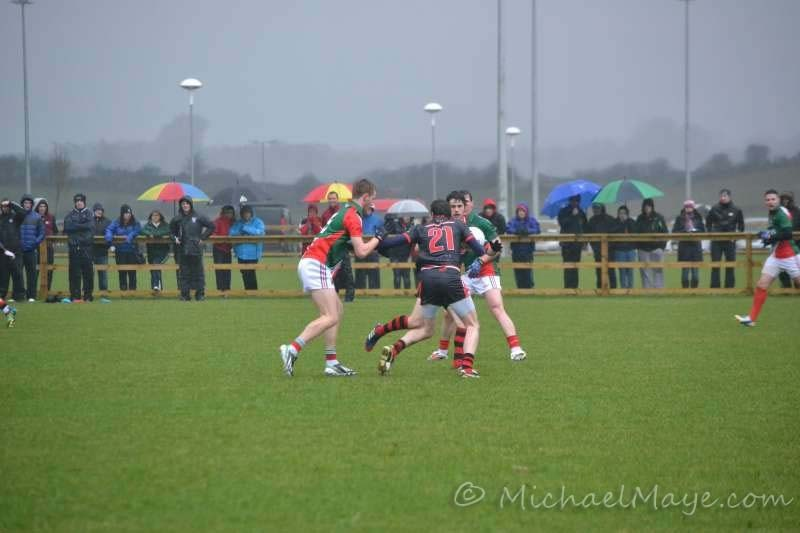player: (299, 158, 378, 382), (415, 194, 479, 375), (747, 179, 798, 322)
